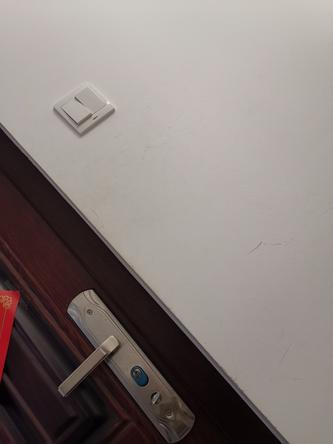switch: (60, 95, 97, 128), (74, 83, 111, 114)
